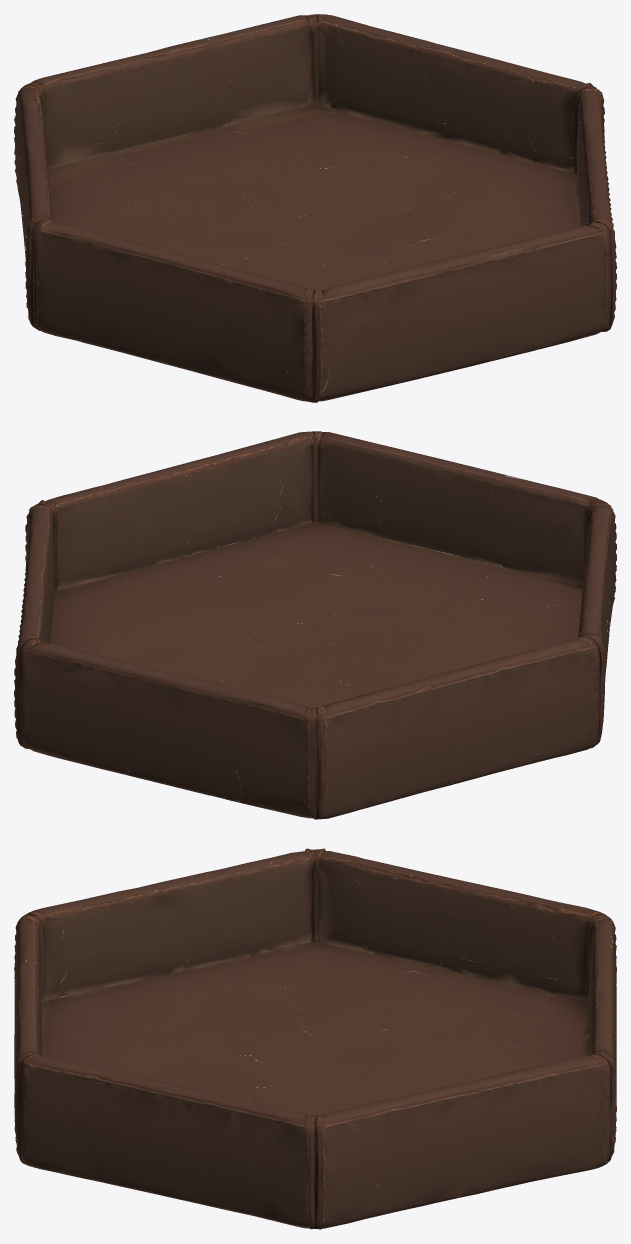
Rendered from tray.glb.
3 views of the same model, one above another, from view 1: azimuth 30°, elevation 25°; view 2: azimuth 150°, elevation 25°; view 3: azimuth 270°, elevation 25° (orthographic).
Visible parts, largest first — view 1: tripo_node_9aedd3e6-a0a1-41fd-84e1-010316c94c13; view 2: tripo_node_9aedd3e6-a0a1-41fd-84e1-010316c94c13; view 3: tripo_node_9aedd3e6-a0a1-41fd-84e1-010316c94c13.
Boxes of the visible parts, box(x1,y1,x2,y2) form: tripo_node_9aedd3e6-a0a1-41fd-84e1-010316c94c13: box(14, 14, 616, 402); tripo_node_9aedd3e6-a0a1-41fd-84e1-010316c94c13: box(14, 431, 616, 819); tripo_node_9aedd3e6-a0a1-41fd-84e1-010316c94c13: box(14, 848, 616, 1229).
Size of the model in its own units: 11.9 by 2.2 by 10.82.
1 material, 1 textured.
